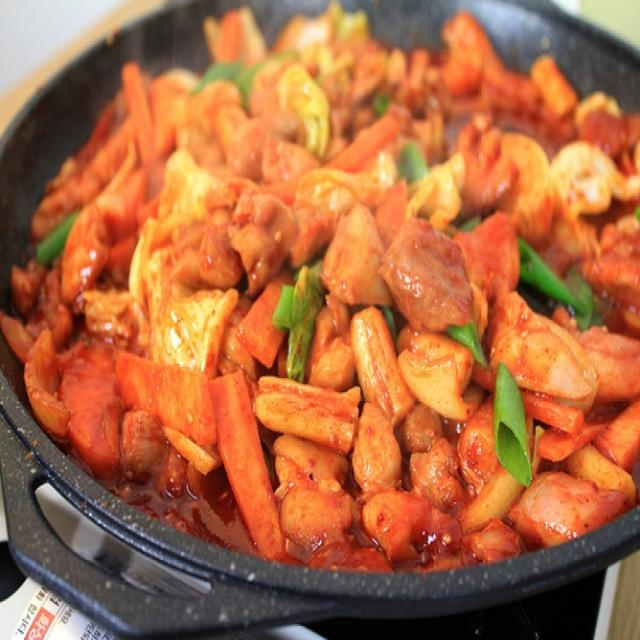鸡肉料理 含炸鸡: (3, 12, 636, 594)
